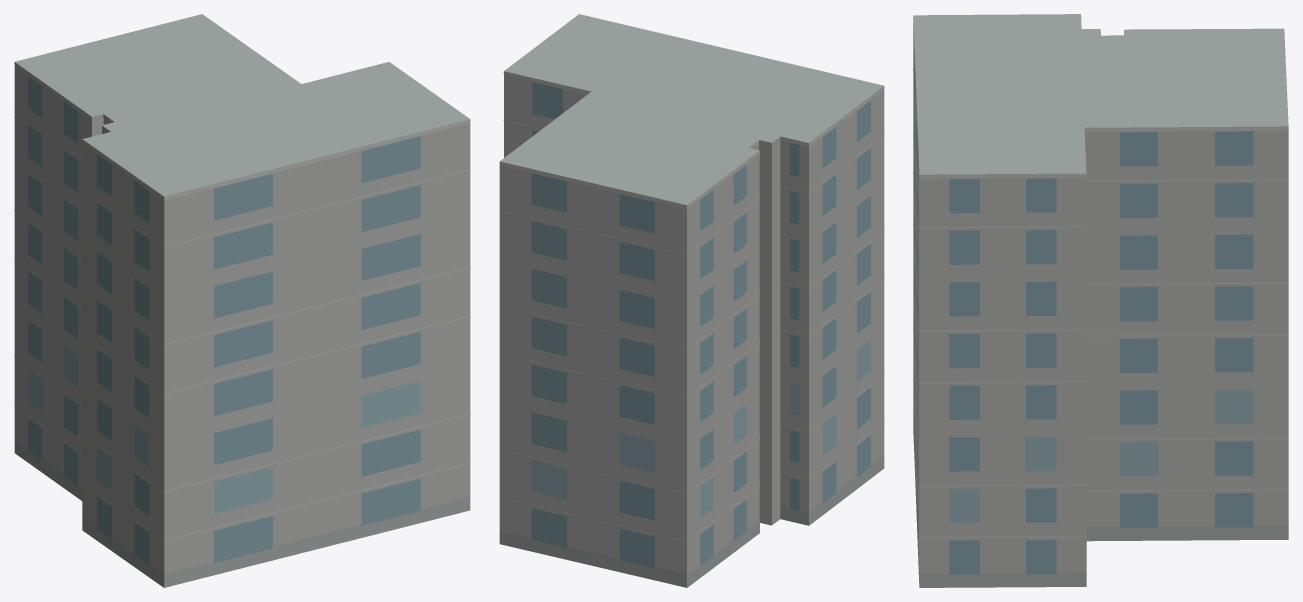
The model's file is survey-upis-32980268.glb.
3 views of the same model, side by side, from view 1: azimuth 30°, elevation 25°; view 2: azimuth 150°, elevation 25°; view 3: azimuth 270°, elevation 25° (orthographic). The views are drawn at different scales.
Visible parts, largest first — view 1: survey-upis-32980268.tmp; view 2: survey-upis-32980268.tmp; view 3: survey-upis-32980268.tmp.
Boxes of the visible parts, x1,y1,x2,y2 form: survey-upis-32980268.tmp: [14, 14, 470, 587]; survey-upis-32980268.tmp: [499, 14, 884, 587]; survey-upis-32980268.tmp: [913, 14, 1288, 587].
Bounding box in the file's own units: 19.35 × 23.2 × 19.12.
